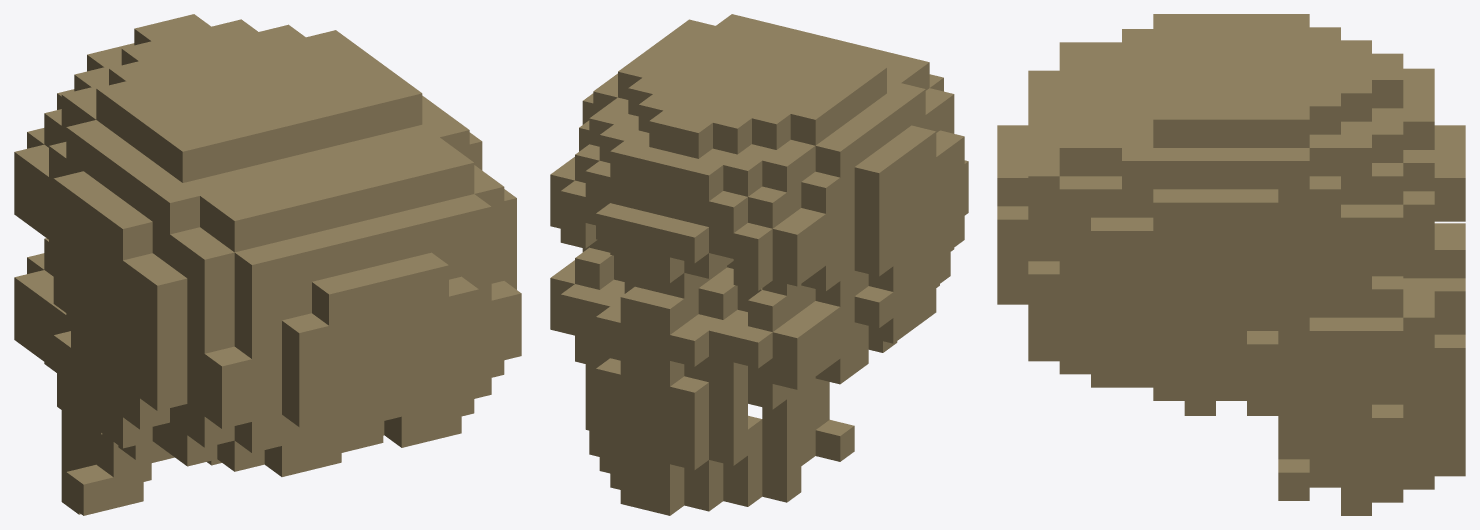
The model's file is SkullCandle.glb.
3 renders of one model, left to right at view 1: azimuth 30°, elevation 25°; view 2: azimuth 150°, elevation 25°; view 3: azimuth 270°, elevation 25°, orthographic. The views are drawn at different scales.
Visible parts, largest first — view 1: skull; view 2: skull; view 3: skull.
Boxes of the visible parts, <box> form: skull: <box>14,14,521,515</box>; skull: <box>550,14,968,515</box>; skull: <box>997,14,1465,515</box>.
Size of the model in its own units: 1.8 by 2.1 by 2.25.
Materials: 1 (1 with a texture image).
